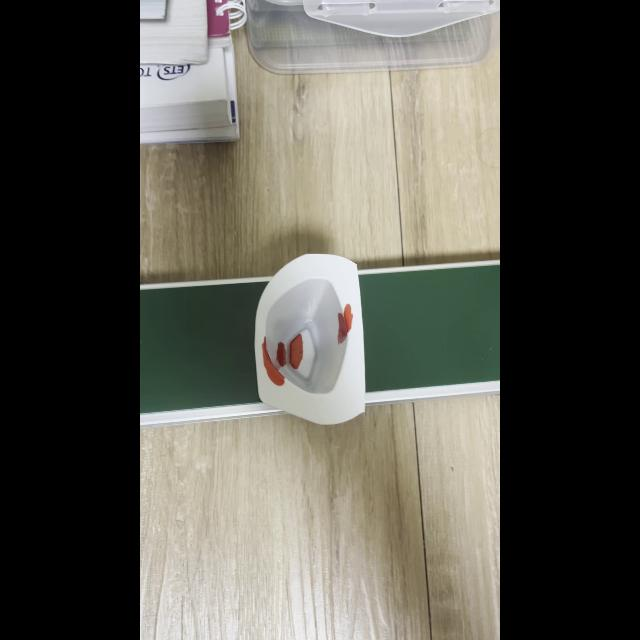dirty: (253, 253, 365, 422)
